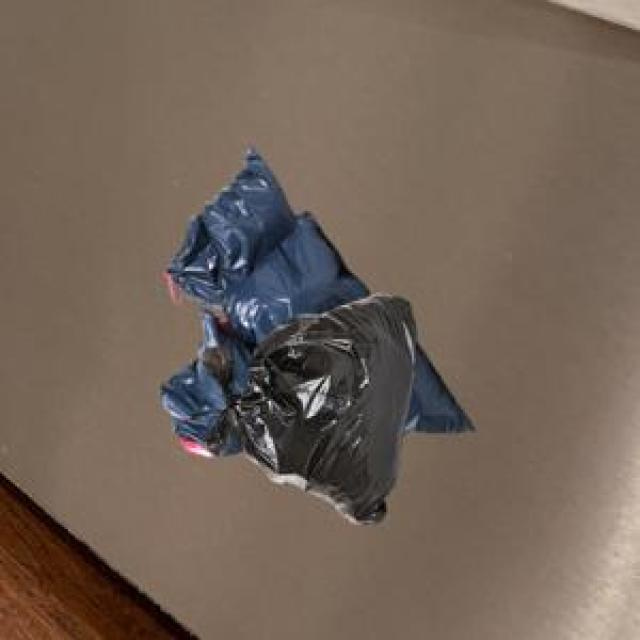waste: (162, 150, 472, 522)
